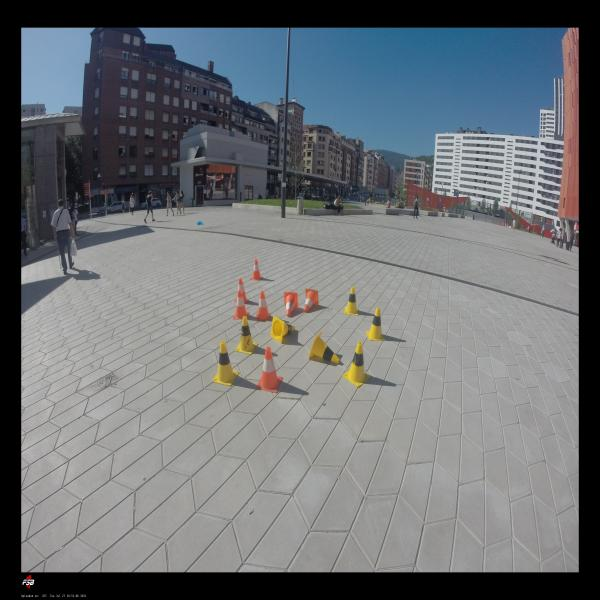orange_cone: (256, 347, 283, 393), (255, 290, 272, 320), (233, 290, 250, 319), (233, 277, 250, 304), (284, 291, 298, 317), (304, 288, 318, 312), (250, 259, 264, 281)
yellow_cone: (212, 341, 239, 386), (343, 342, 370, 386), (310, 331, 341, 364), (235, 314, 258, 354), (270, 314, 295, 344), (366, 307, 385, 341), (344, 286, 359, 315)
